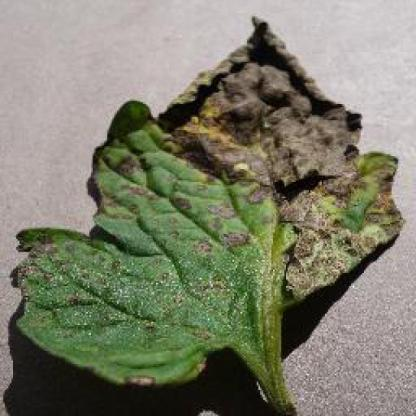Tomato_Blight: (17, 18, 398, 388)
